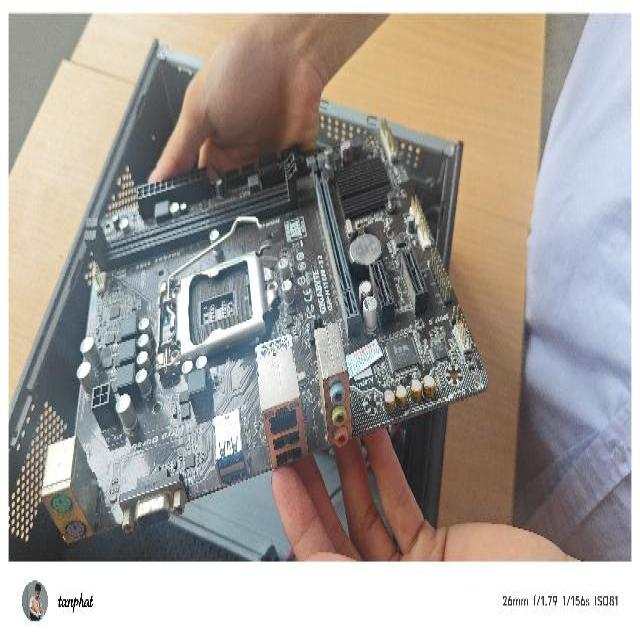Mainboard: (47, 122, 490, 544)
